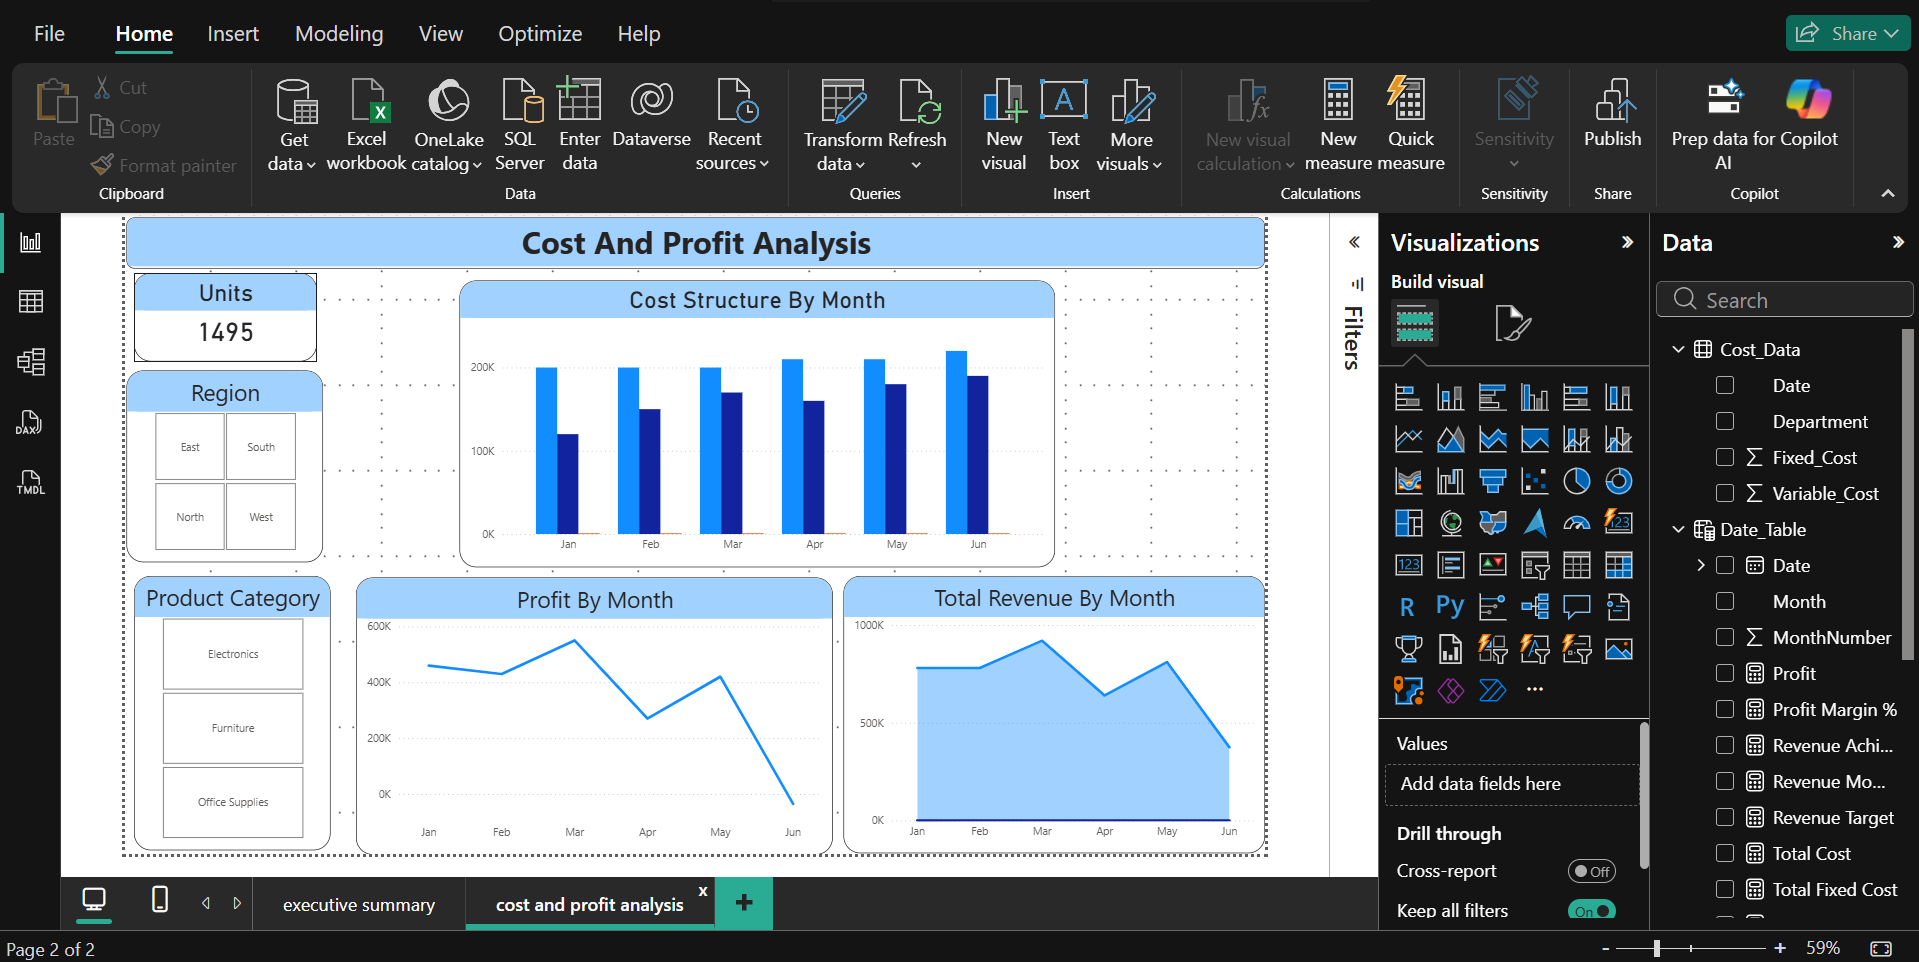

The page's visual inventory and layout, read from the dashboard file:
{"tool":"powerbi","page":{"name":" cost and profit analysis","canvas":[1280,720],"ordinal":1},"visuals":[{"type":"clusteredColumnChart","title":"Cost Structure By Month","fields":{"Category":["Date_Table.Month"],"Y":["Date_Table.Total Fixed Cost","Date_Table.Total Variable Cost","Sum(Date_Table.MonthNumber)"]},"box":[375.6,75.8,668.6,321.7],"z":0},{"type":"slicer","title":"Product Category","fields":{"Values":["Sales_Data.Product_Category"]},"box":[10.1,407.6,220.6,308.2],"z":1000},{"type":"slicer","title":"Region","fields":{"Values":["Sales_Data.Region"]},"box":[1.7,176.8,220.6,215.6],"z":2000},{"type":"areaChart","title":"Total Revenue By  Month","fields":{"Category":["Date_Table.Month"],"Y":["Date_Table.Total Revenue","Sum(Date_Table.MonthNumber)"]},"box":[806.7,407.6,473.3,311.6],"z":3000},{"type":"lineChart","title":"Profit By Month","fields":{"Y":["Date_Table.Profit"],"Category":["Date_Table.Month"]},"box":[259.4,409.3,535.6,311.6],"z":4000},{"type":"card","title":"Units","fields":{"Values":["Sum(Sales_Data.Units_Sold)"]},"box":[10.1,67.4,205.5,99.4],"z":5000},{"type":"card","title":"Cost And Profit Analysis","fields":{"Values":["Min(Cost_Data.Department)"]},"box":[1.7,5.1,1278.3,57.3],"z":6000}]}

Visuals, with their boxes on the page's 1280x720 design canvas (x1, y1, x2, y2). These are canvas units, not pixel positions in the 1919x962 screenshot, which may show the page scaled, cropped or inside an application window:
"Cost Structure By Month" clusteredColumnChart: {"x1": 376, "y1": 76, "x2": 1044, "y2": 398}
"Product Category" slicer: {"x1": 10, "y1": 408, "x2": 231, "y2": 716}
"Region" slicer: {"x1": 2, "y1": 177, "x2": 222, "y2": 392}
"Total Revenue By  Month" areaChart: {"x1": 807, "y1": 408, "x2": 1280, "y2": 719}
"Profit By Month" lineChart: {"x1": 259, "y1": 409, "x2": 795, "y2": 721}
"Units" card: {"x1": 10, "y1": 67, "x2": 216, "y2": 167}
"Cost And Profit Analysis" card: {"x1": 2, "y1": 5, "x2": 1280, "y2": 62}
